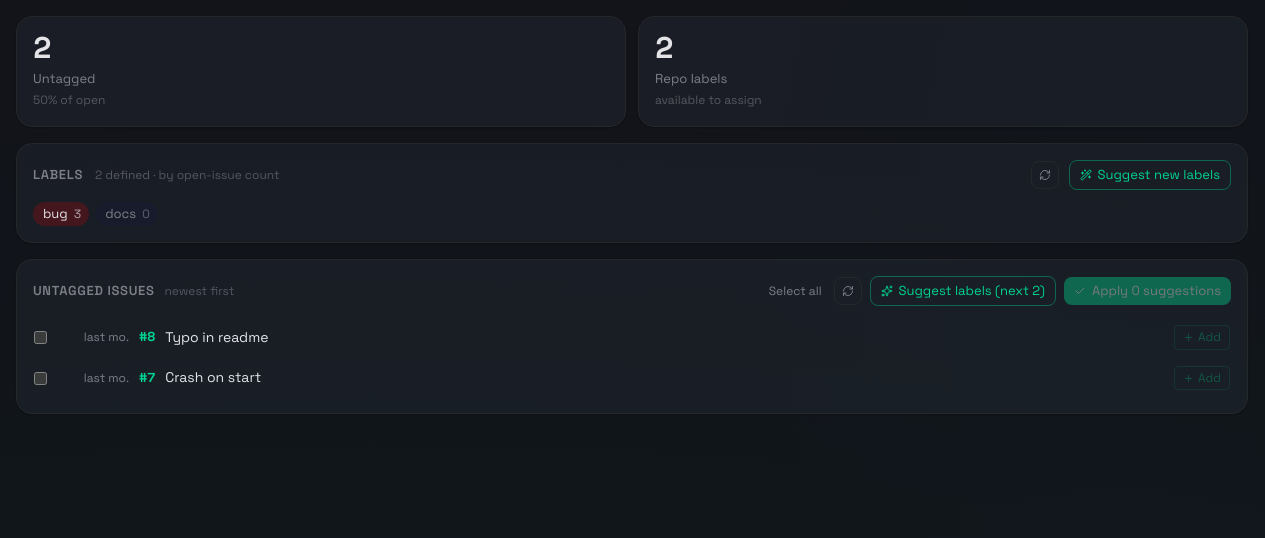
TaggingView › shows a short reason on each suggested new label
Expected: the text "Labels" is shown, [33, 165, 83, 185]
Click the button "Suggest new labels". click: (1150, 175)
box: [1069, 160, 1231, 190]
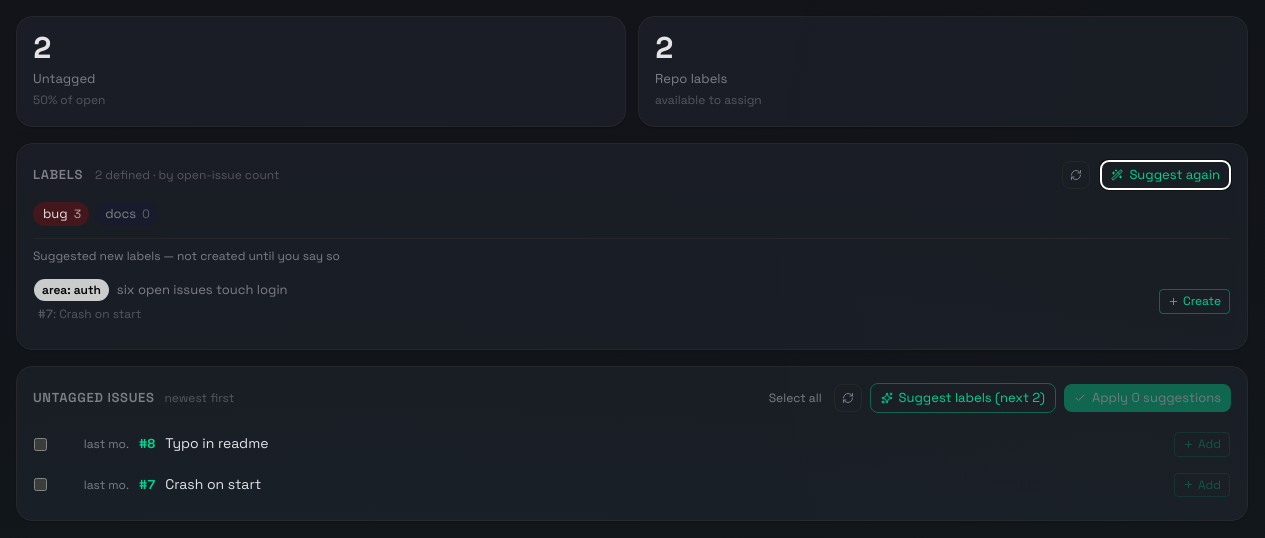
Expected: the text "six open issues touch login" is shown, [117, 281, 288, 298]
Expected: the text "area: auth" is shown, [42, 281, 101, 299]
